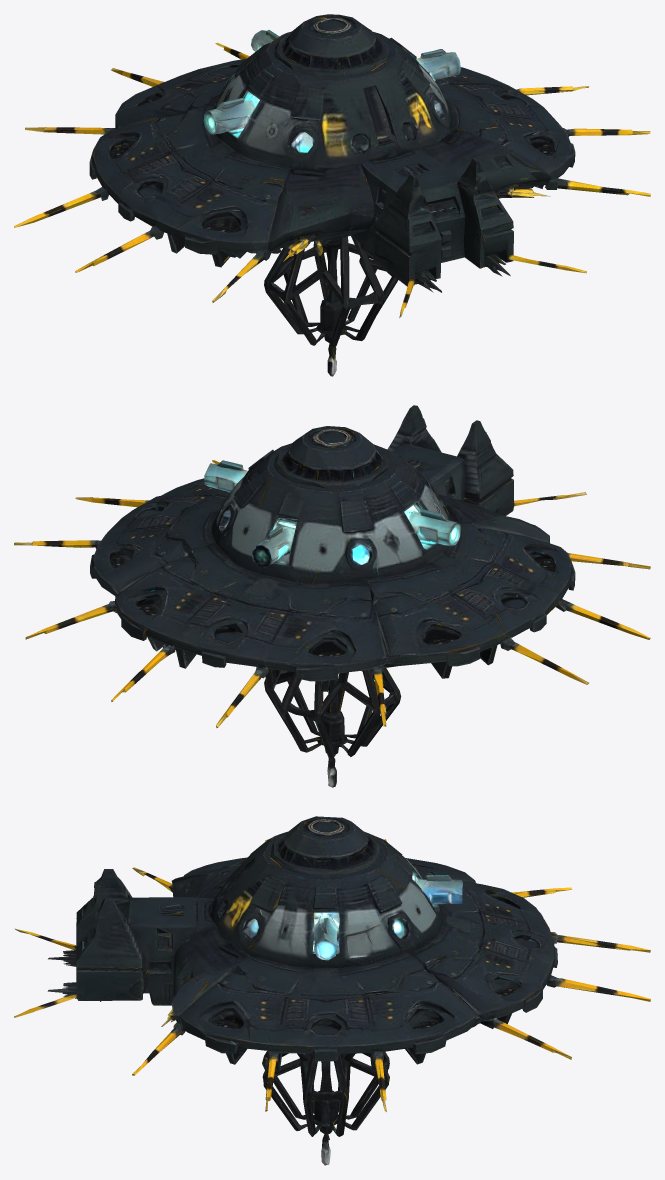
The model's file is enemy-nereid-fortress.glb.
3 renders of one model, top to bottom at view 1: azimuth 30°, elevation 25°; view 2: azimuth 150°, elevation 25°; view 3: azimuth 270°, elevation 25°, orthographic. The views are drawn at different scales.
Size of the model in its own units: 1.9 by 1.11 by 1.89.
Materials: 1 (1 with a texture image).
